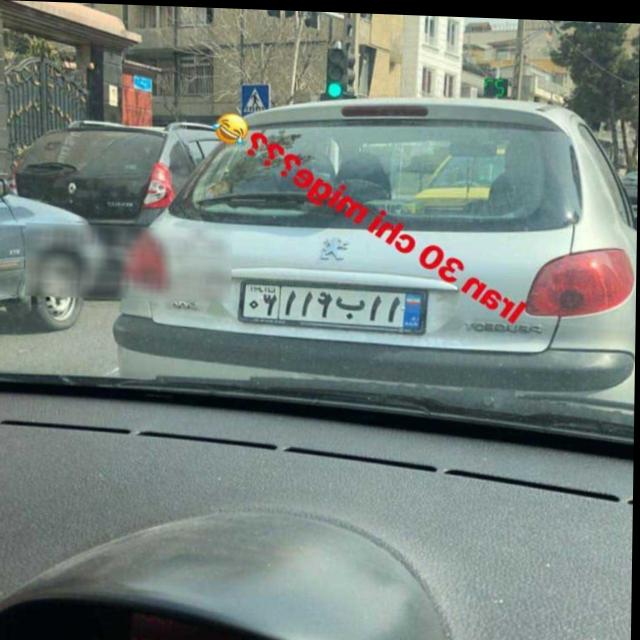licence: (242, 283, 433, 325)
